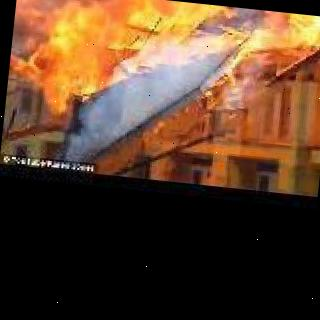fire: (67, 23, 235, 176), (16, 0, 320, 49)
